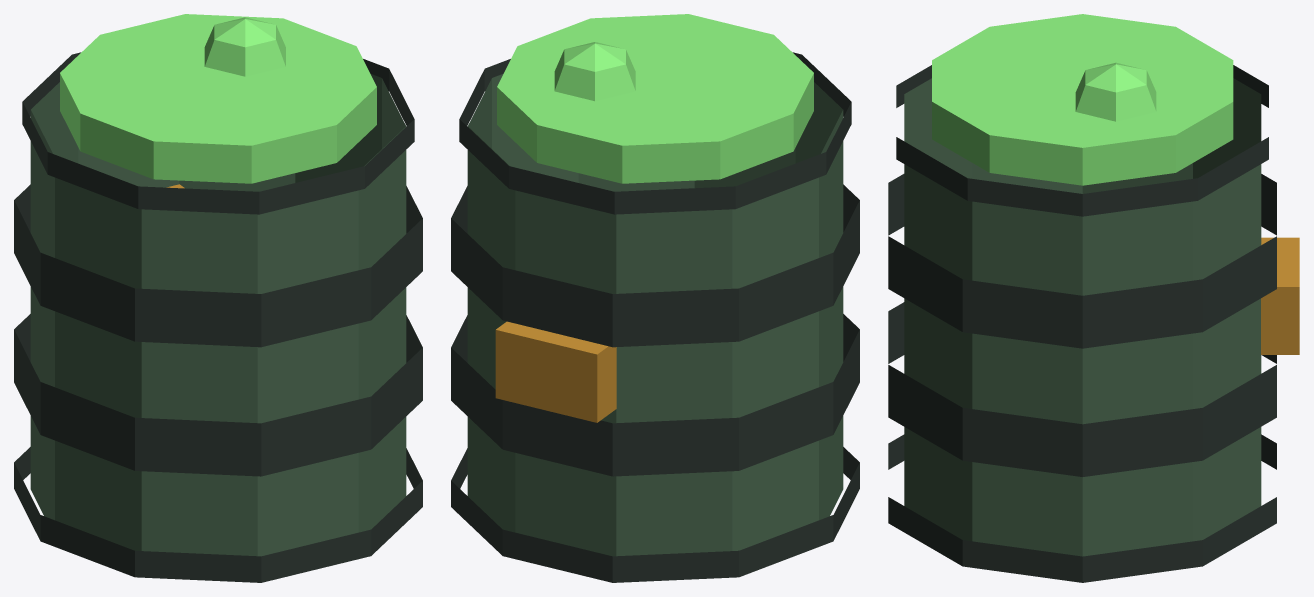
Rendered from barrel.obj.
3 renders of one model, left to right at view 1: azimuth 30°, elevation 25°; view 2: azimuth 150°, elevation 25°; view 3: azimuth 270°, elevation 25°, orthographic.
Parts seen in each view (by area): view 1: barrel; view 2: barrel; view 3: barrel.
Part boxes in pixels (x1=…): barrel: x1=14, y1=14, x2=422, y2=582; barrel: x1=451, y1=14, x2=859, y2=582; barrel: x1=888, y1=14, x2=1299, y2=582.
Size of the model in its own units: 0.98 by 1.2 by 0.986.
